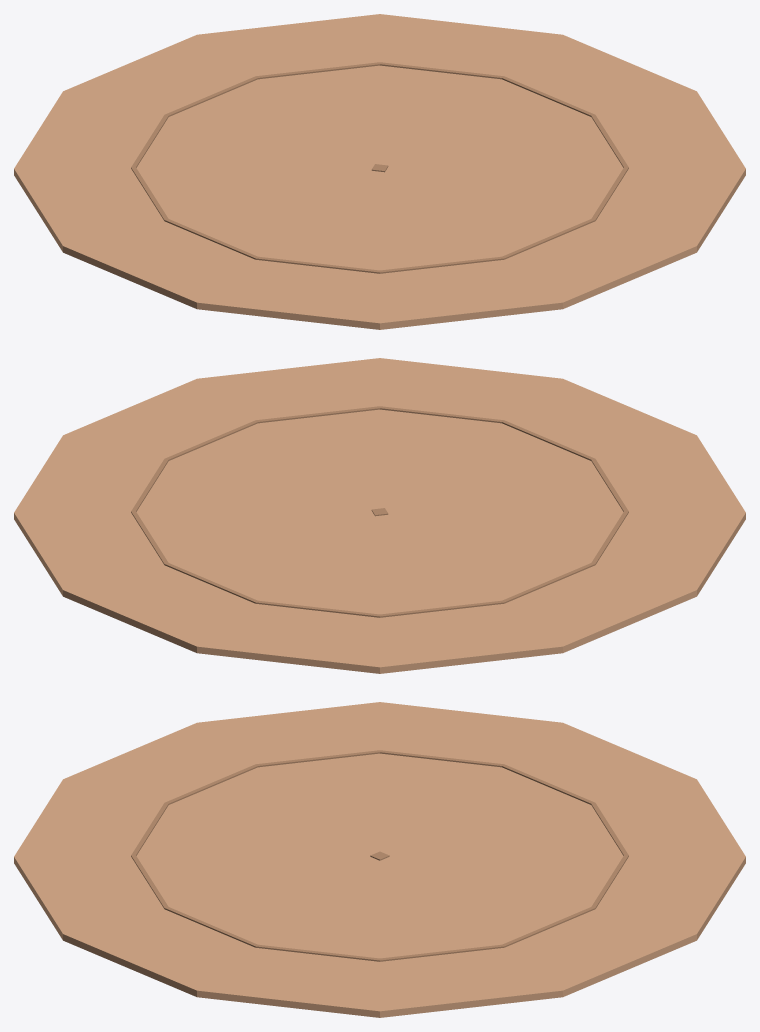
The model's file is prop-copper-sheet-blank.fbx.
3 views of the same model, one above another, from view 1: azimuth 30°, elevation 25°; view 2: azimuth 150°, elevation 25°; view 3: azimuth 270°, elevation 25° (orthographic).
Visible parts, largest first — view 1: prop-copper-sheet-blank; view 2: prop-copper-sheet-blank; view 3: prop-copper-sheet-blank.
Boxes of the visible parts, <box> form: prop-copper-sheet-blank: <box>14,14,745,329</box>; prop-copper-sheet-blank: <box>14,358,745,673</box>; prop-copper-sheet-blank: <box>14,702,745,1017</box>.
Size of the model in its own units: 30 by 0.36 by 30.
